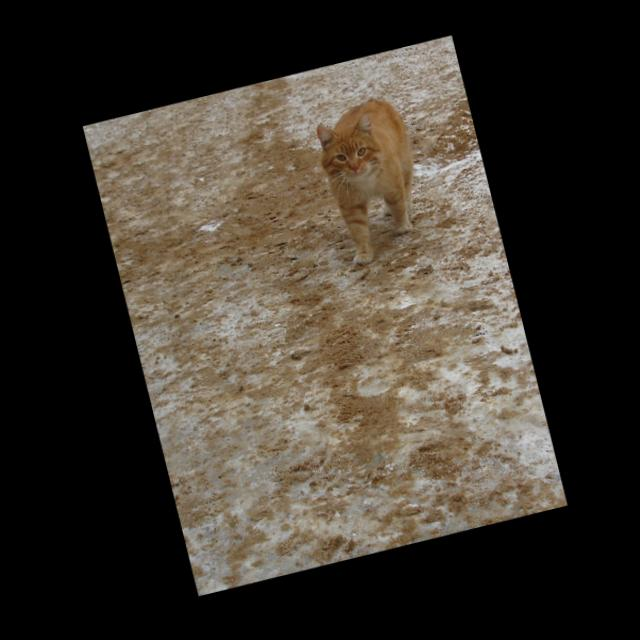animals: (309, 92, 435, 270)
